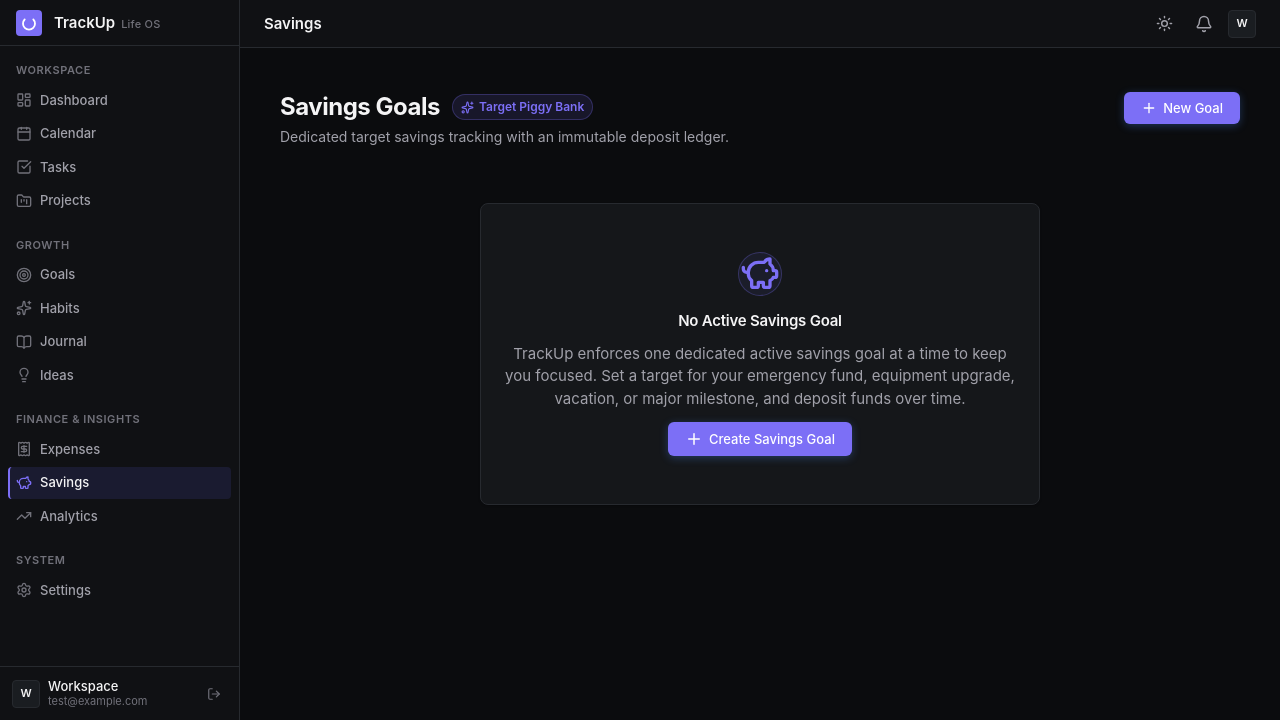
Milestone 3B: Savings Goals UI & Dashboard Integration Suite › 4. Goal Creation Modal & Validation › successfully creates goal with exact rupee-to-paise conversion and updates UI
Click the button "Create Savings Goal". click: x=760, y=439
box: [668,422,852,456]
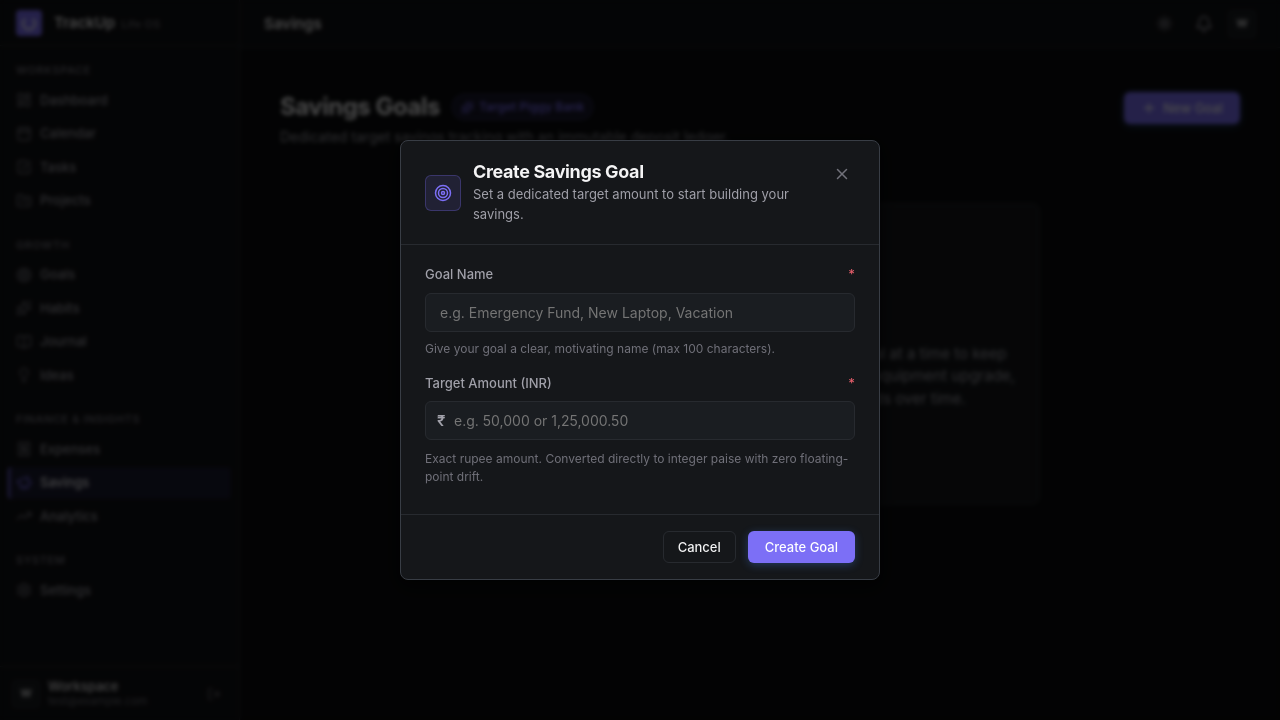
Type "Europe Trip" into the field labelled "Goal Name *". click: x=640, y=312
box: [425,293,855,332]
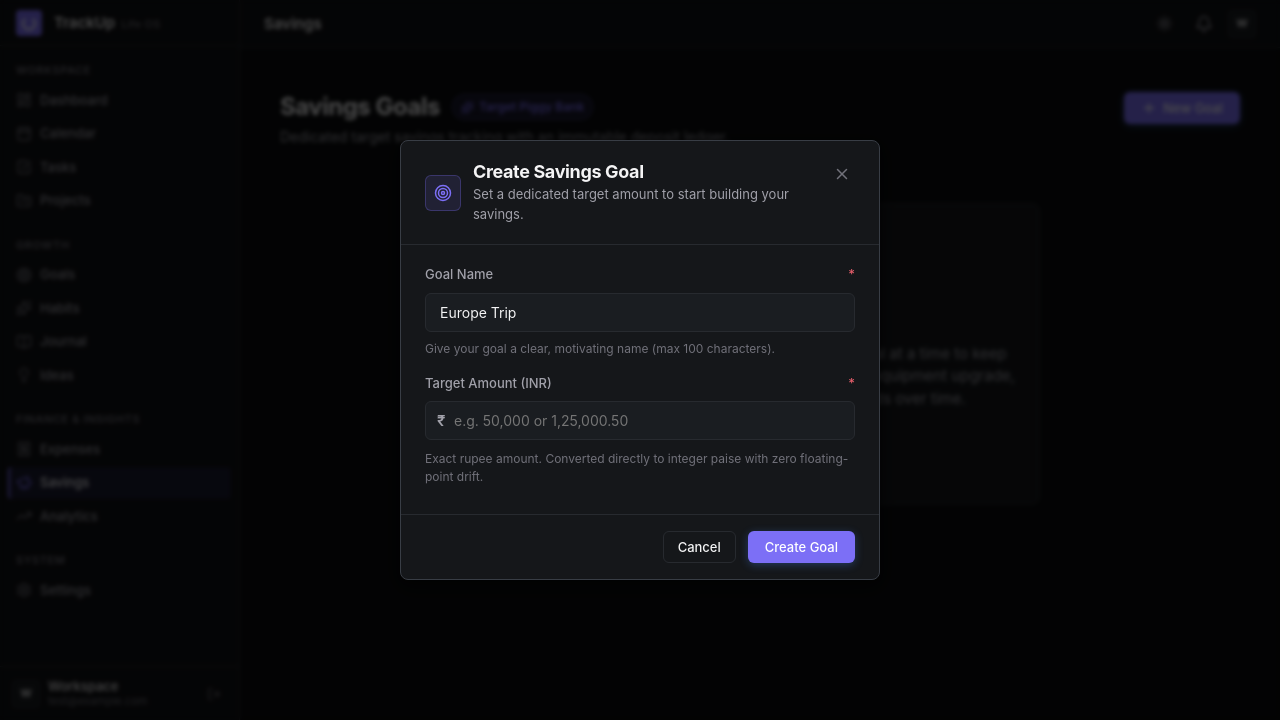
Type "1,50,000" into the field labelled "Target Amount (INR) *". click: x=640, y=421
box: [425,401,855,440]
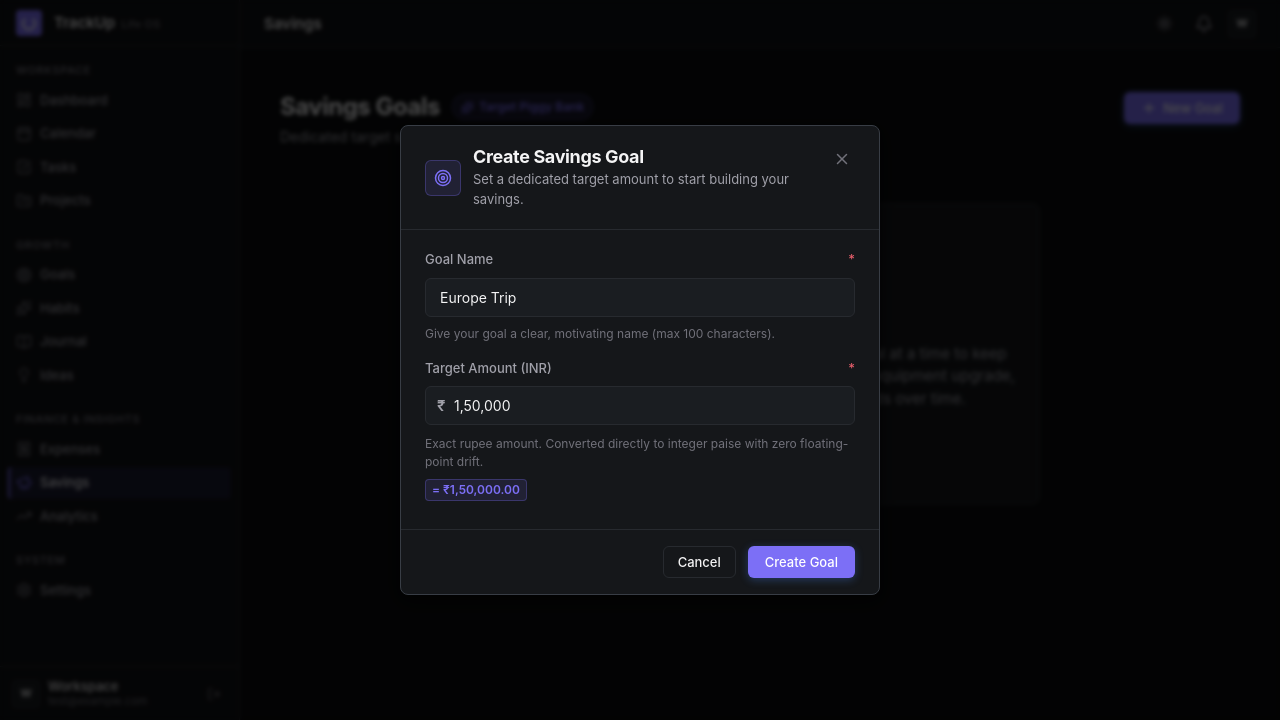
Check: the text "= ₹1,50,000.00" is shown, box [425,479,527,501]
Click the button "Create Goal". click: x=801, y=562
box: [748,546,855,578]
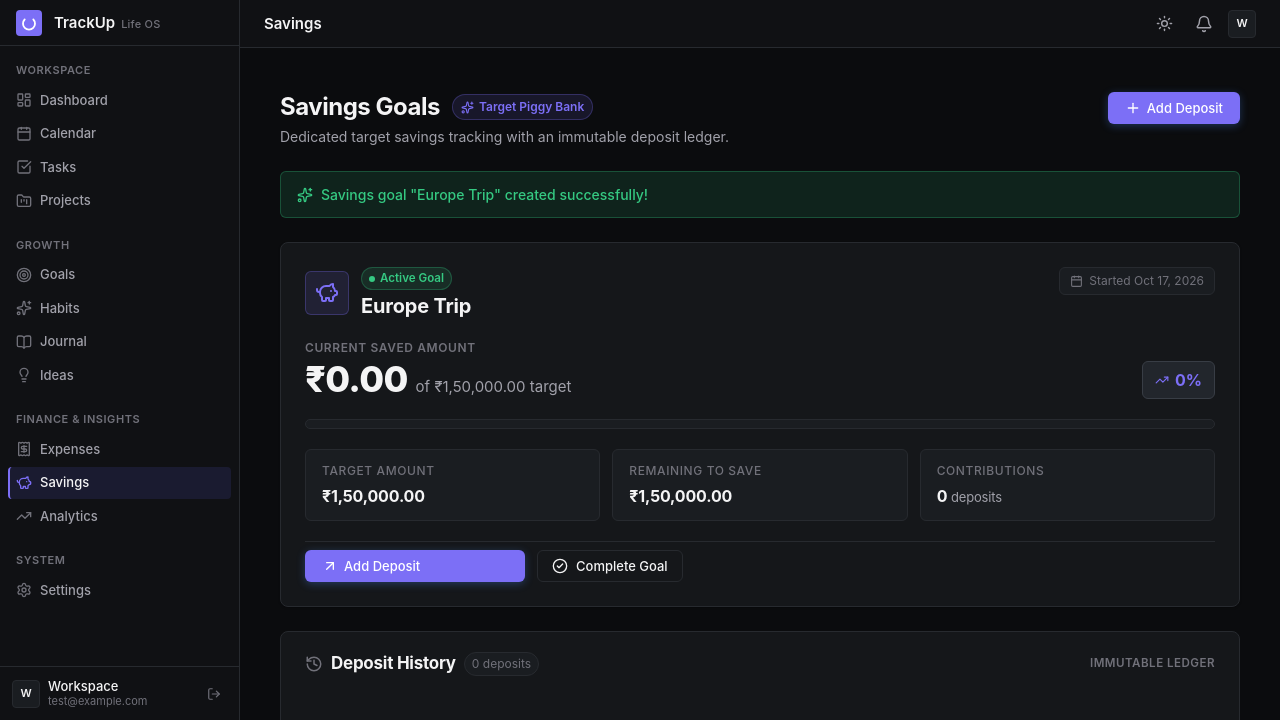
Check: the heading "Europe Trip" is shown, box [361,294,471,319]
Check: the text "₹0.00" is shown, box [305,361,408,397]
Check: the text "of ₹1,50,000.00 target" is shown, box [416,376,571,399]
